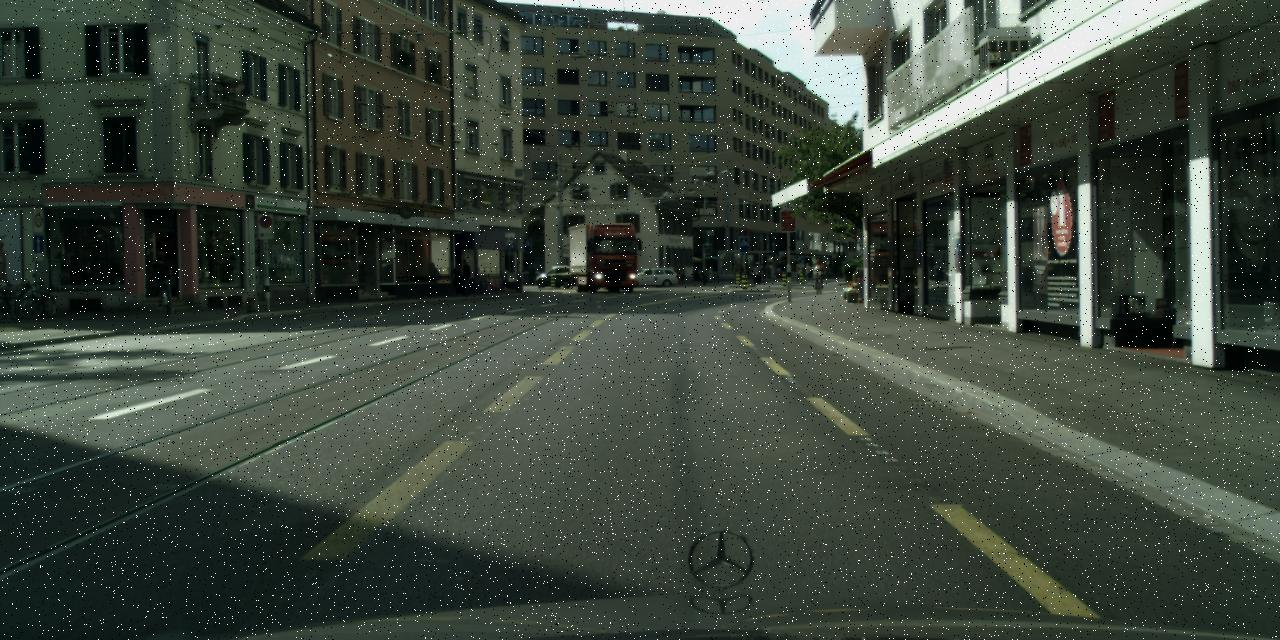ped: (152, 251, 175, 307), (459, 259, 473, 295), (452, 264, 464, 294), (814, 260, 824, 288), (794, 261, 804, 283), (526, 264, 535, 284), (672, 260, 680, 281), (701, 264, 708, 284), (804, 262, 811, 282), (734, 262, 741, 279), (678, 264, 684, 282), (754, 262, 760, 278)
